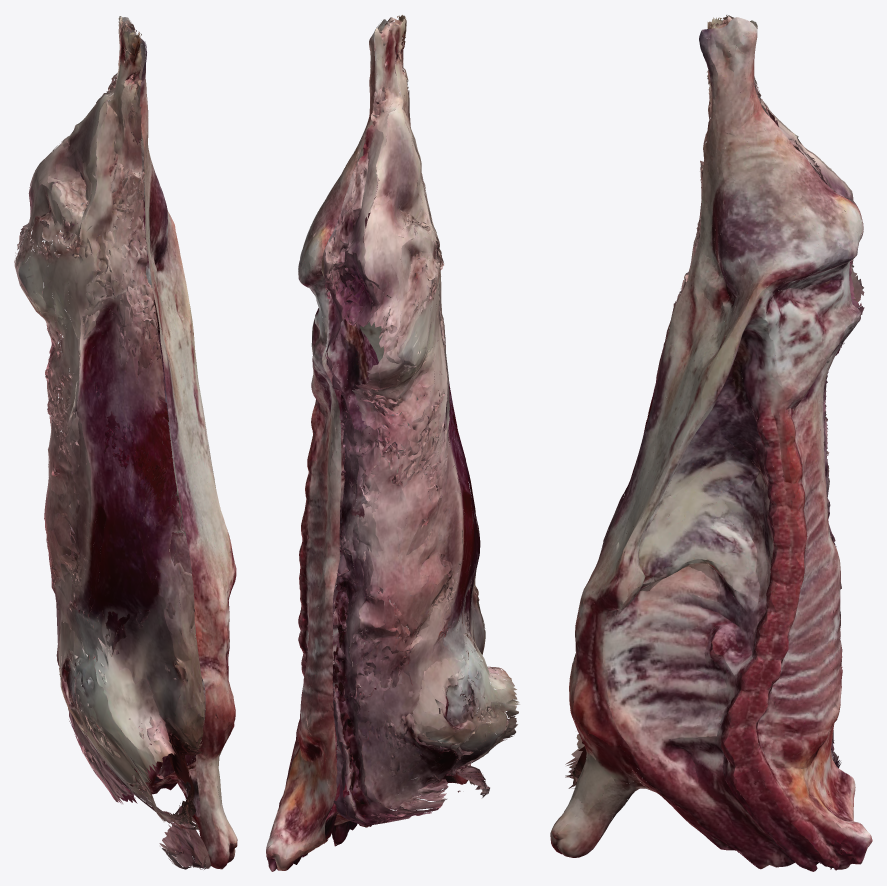
Rendered from demi_carcasse_boeuf.glb.
The picture shows the model from 3 angles, left to right: view 1: azimuth 30°, elevation 25°; view 2: azimuth 150°, elevation 25°; view 3: azimuth 270°, elevation 25°; orthographic projection. The views are drawn at different scales.
Visible parts, largest first — view 1: face_exterieure, face_de_fente; view 2: face_exterieure, face_de_fente; view 3: face_de_fente, face_exterieure.
Part boxes in pixels (bbox=[...]): face_exterieure: bbox=[14, 16, 210, 869]; face_de_fente: bbox=[72, 17, 237, 869]; face_exterieure: bbox=[324, 15, 519, 826]; face_de_fente: bbox=[266, 19, 470, 871]; face_de_fente: bbox=[550, 17, 872, 871]; face_exterieure: bbox=[565, 15, 864, 798].
Bounding box in the file's own units: 0.4638 × 2.5 × 0.8773.
Materials: 2 (2 with a texture image).
